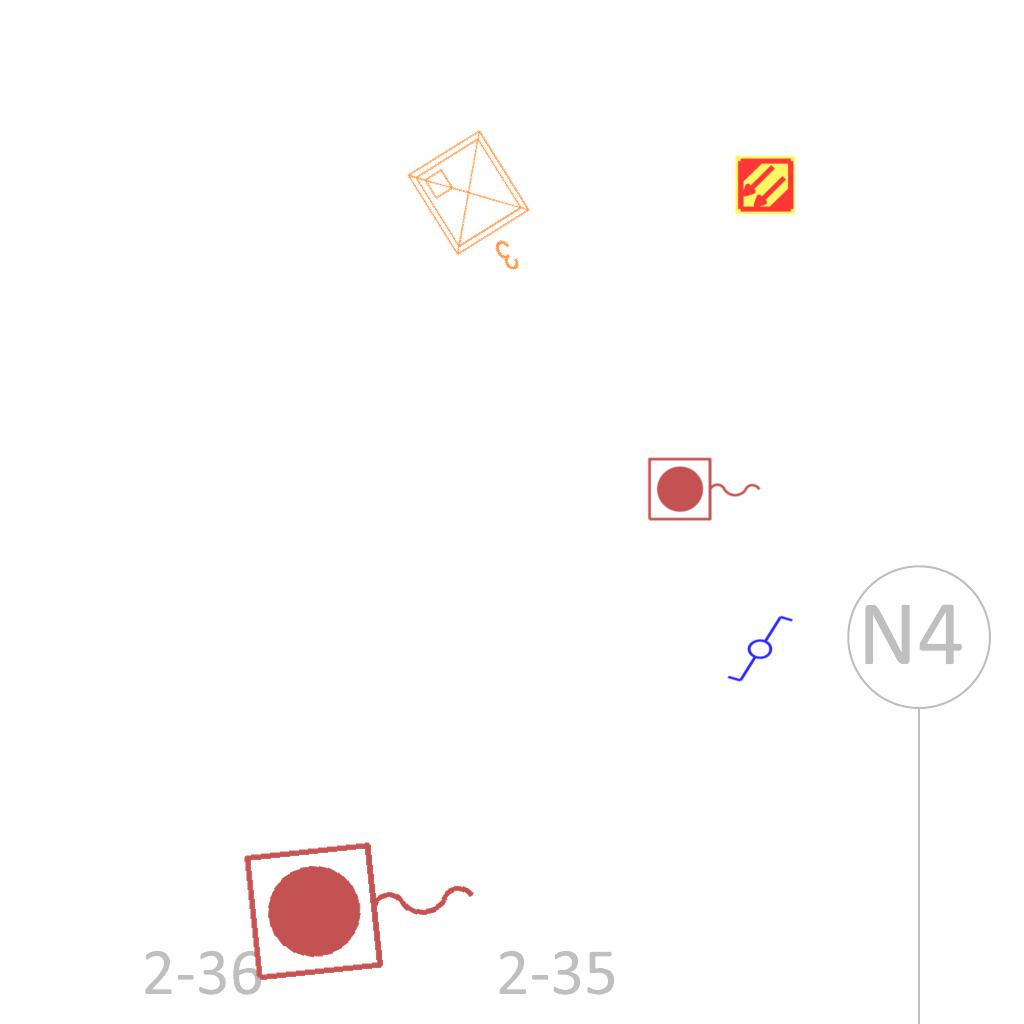ASR_Ansaugrauchmelder: (734, 154, 796, 216)
Einbaudownlights_LED_Konferenzraeume: (397, 117, 565, 301)
Wechselschalter: (717, 612, 795, 684)
Zugtaster: (235, 823, 493, 993), (644, 454, 766, 526)
